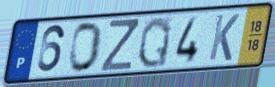4: (173, 15, 200, 64)
6: (36, 23, 66, 76)
K: (207, 12, 242, 63)
O: (67, 20, 105, 75)
Q: (136, 15, 173, 70)
Z: (99, 18, 141, 74)
